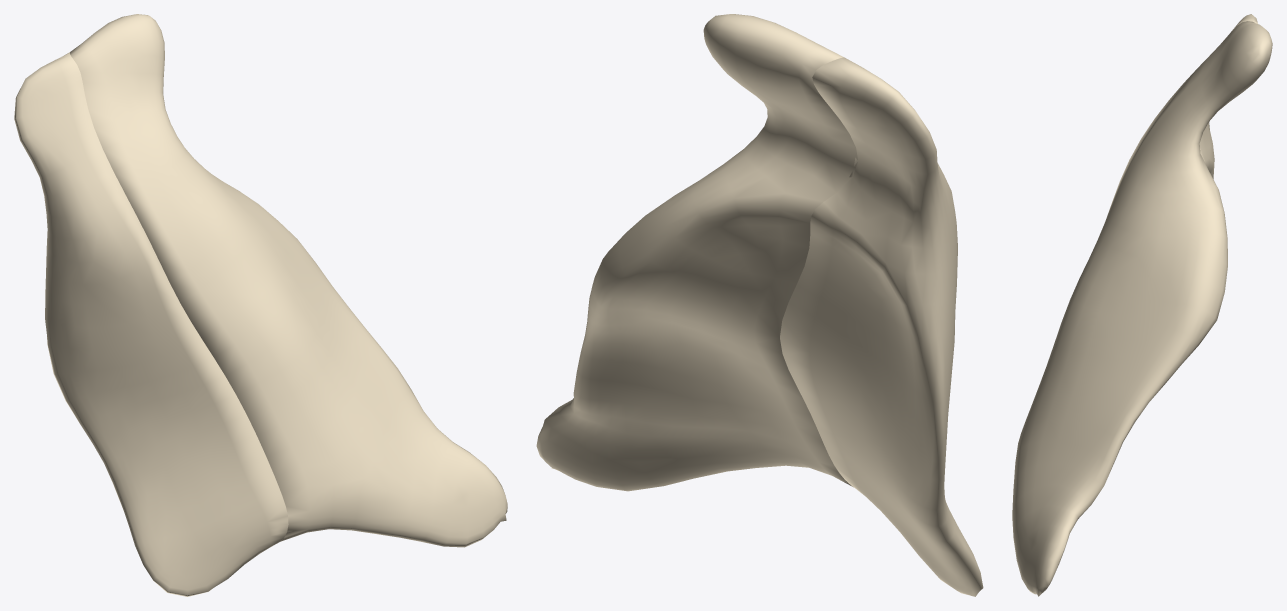
The model's file is VH_F_Thymus.glb.
3 views of the same model, side by side, from view 1: azimuth 30°, elevation 25°; view 2: azimuth 150°, elevation 25°; view 3: azimuth 270°, elevation 25° (orthographic). The views are drawn at different scales.
Visible parts, largest first — view 1: VHF_thymus_lobe_L, VHF_thymus_lobe_R; view 2: VHF_thymus_lobe_L, VHF_thymus_lobe_R; view 3: VHF_thymus_lobe_L, VHF_thymus_lobe_R.
Part boxes in pixels (x1,y1,x2,y2): VHF_thymus_lobe_L: (70,14,507,547); VHF_thymus_lobe_R: (14,52,288,596); VHF_thymus_lobe_L: (536,14,857,491); VHF_thymus_lobe_R: (780,57,983,596); VHF_thymus_lobe_L: (1012,21,1272,596); VHF_thymus_lobe_R: (1199,14,1257,179).
Size of the model in its own units: 0.0923 by 0.1109 by 0.0576.
